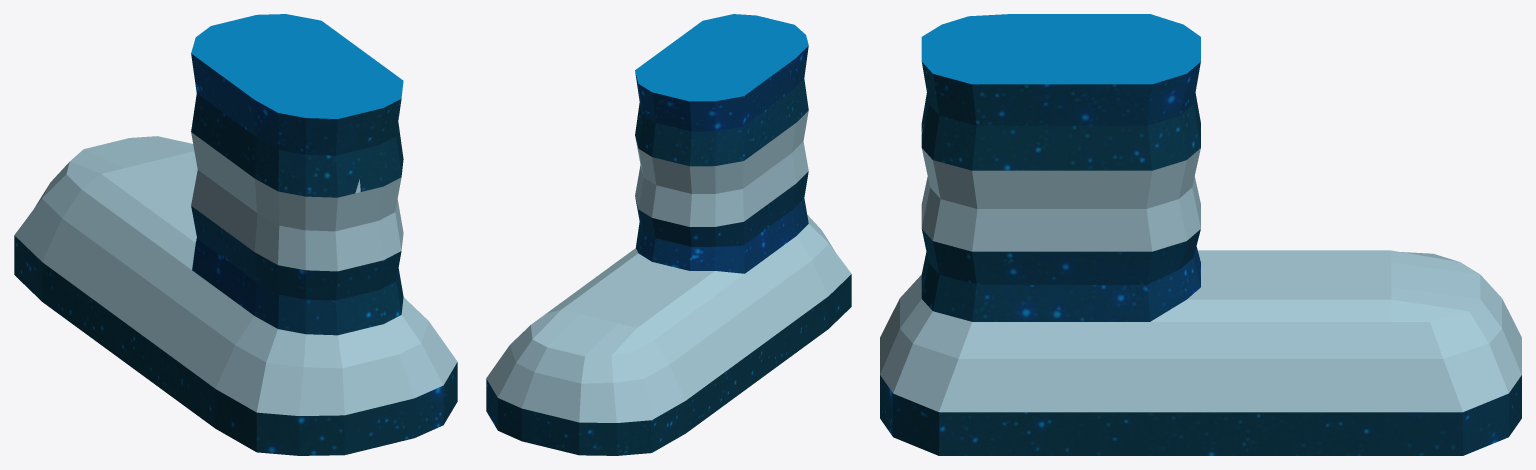
The model's file is Moon Boots.fbx.
3 views of the same model, side by side, from view 1: azimuth 30°, elevation 25°; view 2: azimuth 150°, elevation 25°; view 3: azimuth 270°, elevation 25° (orthographic). The views are drawn at different scales.
Parts seen in each view (by area): view 1: Cube; view 2: Cube; view 3: Cube.
Part boxes in pixels (box(x1,y1,x2,y2)): Cube: box(14, 14, 457, 455); Cube: box(486, 14, 851, 455); Cube: box(880, 14, 1521, 455).
Size of the model in its own units: 2 by 2.91 by 4.83.
